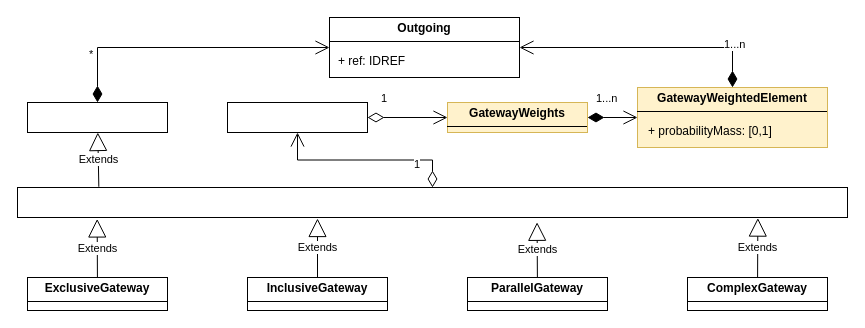
This 865x328 diagram has some shape labels left out. Each missing label, with the centre of its shape:
ExtensionElements: the point at 297,117
FlowNode: the point at 97,117
Gateway: the point at 432,202
